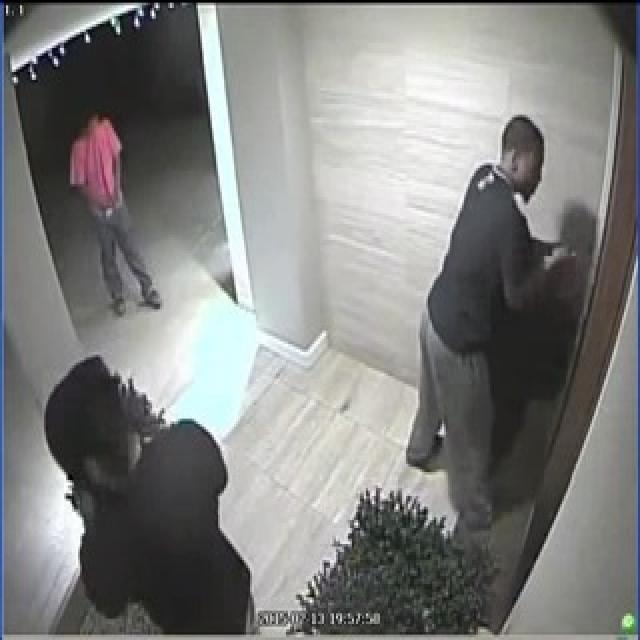burglary: (419, 112, 632, 477)
thief: (63, 346, 212, 521), (66, 101, 153, 279)
